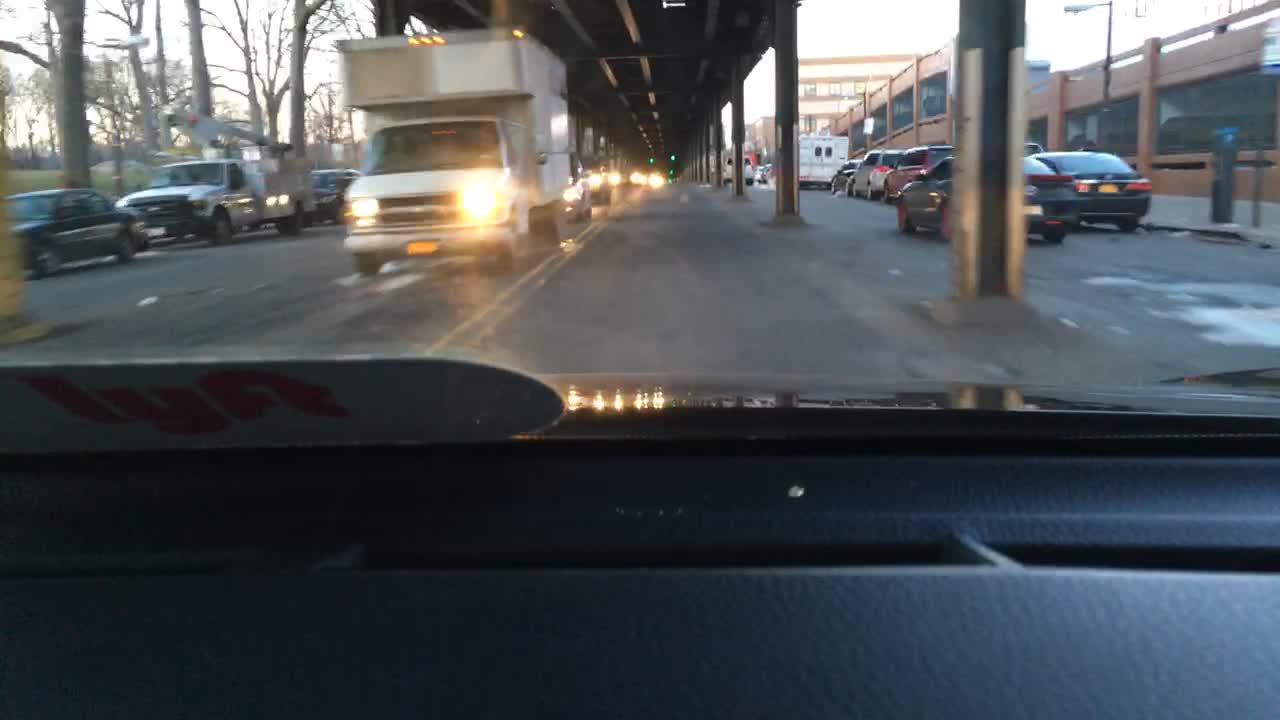car: (894, 151, 1072, 243), (2, 185, 148, 275), (1034, 151, 1150, 231), (884, 144, 954, 203), (309, 167, 363, 225), (851, 150, 900, 198), (563, 150, 595, 217), (583, 160, 617, 204), (830, 161, 857, 195), (725, 156, 753, 186), (626, 168, 644, 186), (760, 162, 772, 185), (648, 172, 664, 188), (755, 164, 761, 182)
traffic light: (1264, 23, 1279, 65)
truck: (331, 29, 572, 272), (115, 107, 316, 246), (801, 134, 846, 189)
